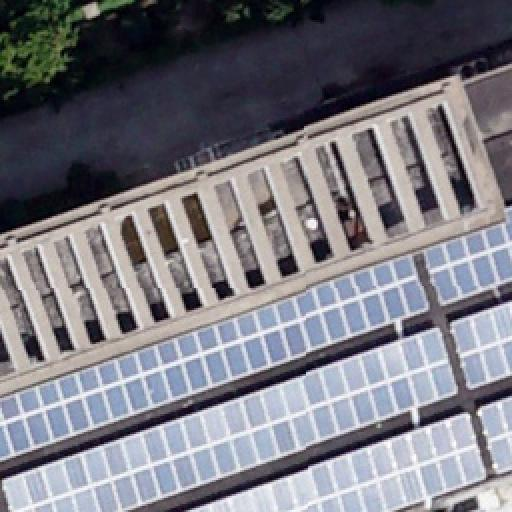solar-panel: (0, 251, 432, 461), (3, 326, 461, 512), (189, 412, 491, 512), (422, 206, 512, 302), (448, 299, 512, 389), (476, 396, 512, 472), (471, 508, 481, 512)
